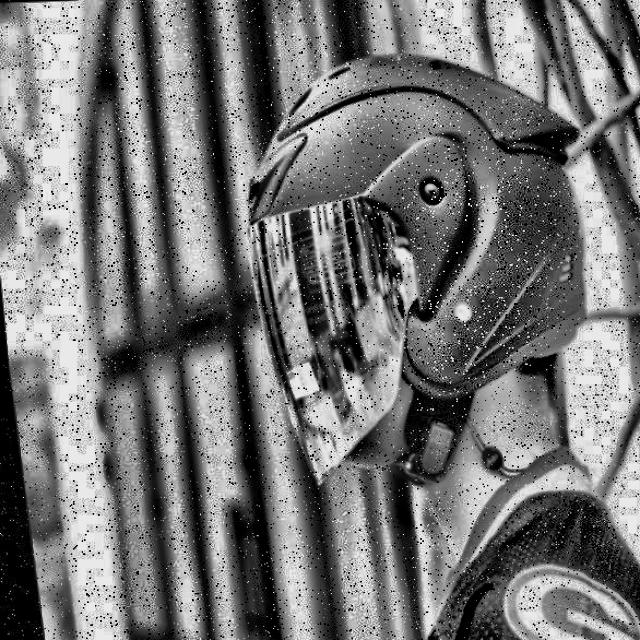Helmet: (210, 38, 626, 500)
